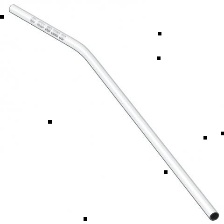drinking_straw: (5, 0, 222, 223)
